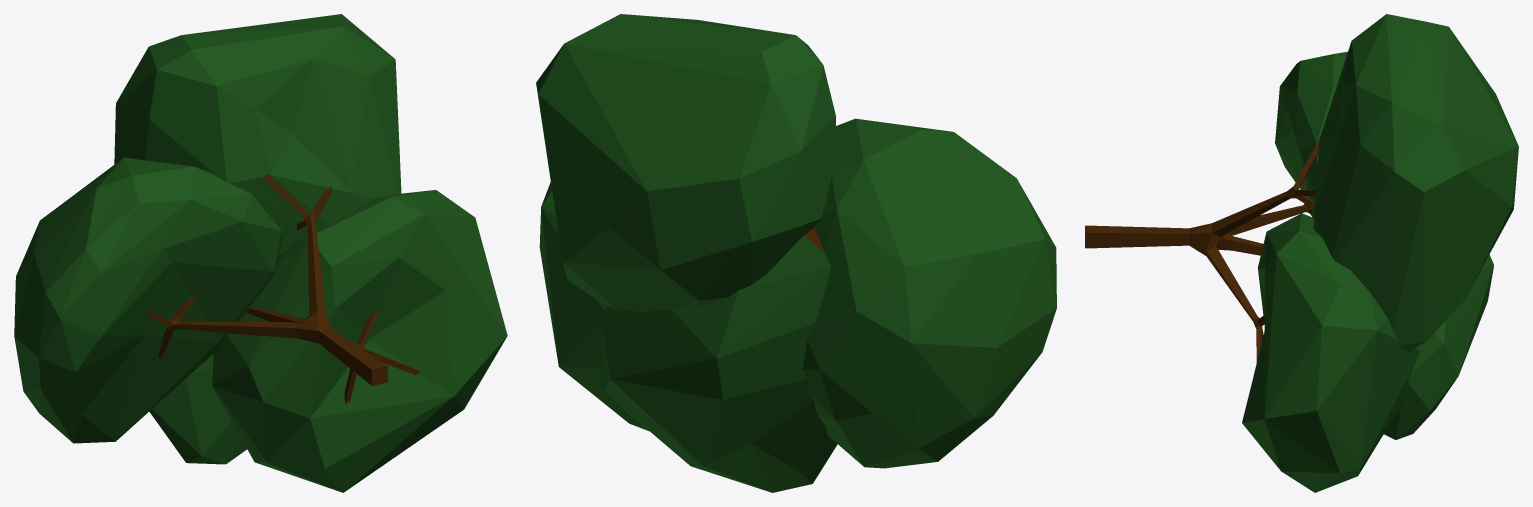
File: tree2.fbx
3 renders of one model, left to right at view 1: azimuth 30°, elevation 25°; view 2: azimuth 150°, elevation 25°; view 3: azimuth 270°, elevation 25°, orthographic. The views are drawn at different scales.
Visible parts, largest first — view 1: Tree2; view 2: Tree2; view 3: Tree2.
Part boxes in pixels (bbox=[...]): Tree2: bbox=[14, 14, 507, 492]; Tree2: bbox=[536, 14, 1056, 492]; Tree2: bbox=[1085, 14, 1518, 492].
Bounding box in the file's own units: 821 × 732 × 698.
